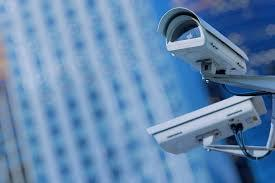tutu: (152, 0, 256, 82), (142, 91, 270, 157)
